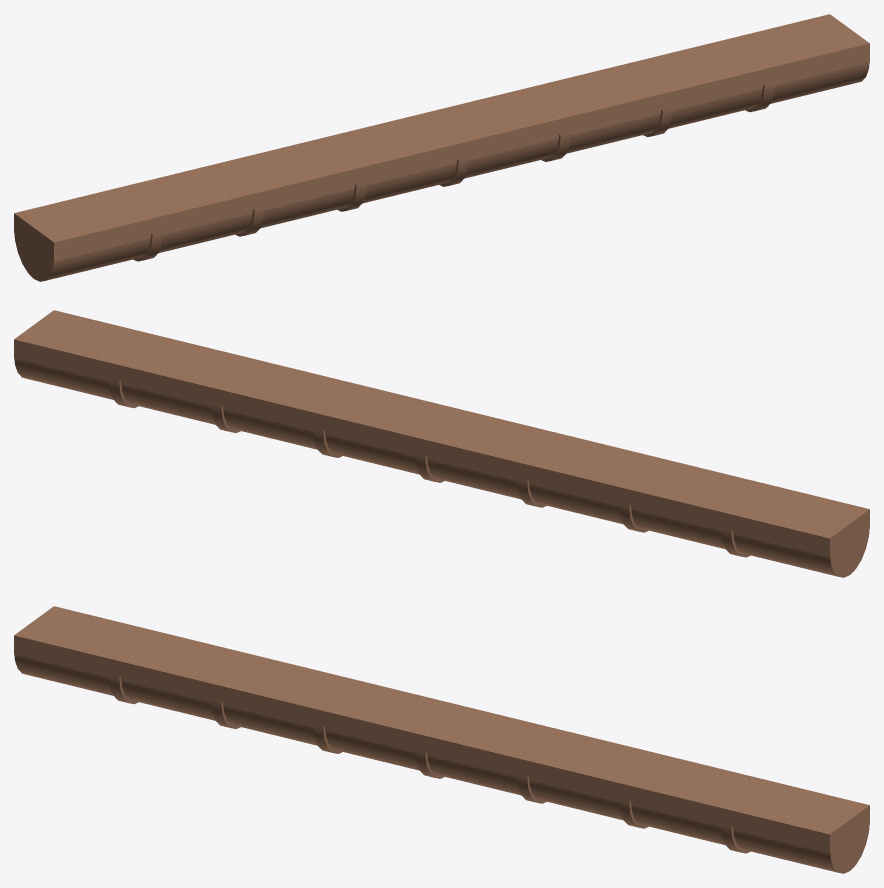
File: tactical-shooter-hill-town-roof-ridge-cap-3d9b60dd__27521.glb
3 renders of one model, top to bottom at view 1: azimuth 30°, elevation 25°; view 2: azimuth 150°, elevation 25°; view 3: azimuth 330°, elevation 25°, orthographic.
Parts seen in each view (by area): view 1: roof-ridge-cap; view 2: roof-ridge-cap; view 3: roof-ridge-cap.
Boxes of the visible parts, x1=… form: roof-ridge-cap: x1=14, y1=14, x2=869, y2=281; roof-ridge-cap: x1=14, y1=310, x2=869, y2=577; roof-ridge-cap: x1=14, y1=606, x2=869, y2=873.
Size of the model in its own units: 4 by 0.2549 by 0.3701.
Materials: 1 (1 with a texture image).
